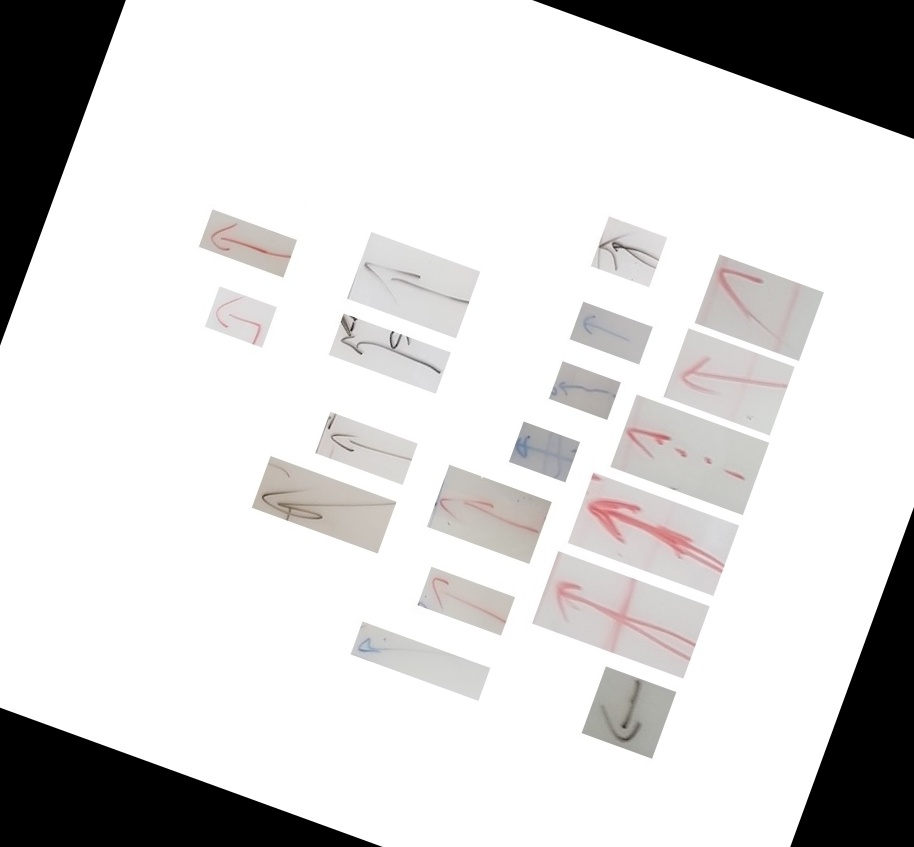arrow: (466, 612, 615, 729), (506, 530, 618, 631), (487, 723, 611, 809), (183, 506, 290, 601), (283, 295, 382, 385), (544, 459, 642, 546), (359, 521, 453, 607), (601, 391, 691, 475), (260, 369, 354, 442), (631, 313, 705, 404), (346, 619, 428, 690), (250, 466, 324, 538), (132, 265, 203, 326), (499, 353, 561, 413), (281, 674, 345, 731), (523, 271, 576, 338), (437, 473, 489, 533), (480, 416, 533, 471), (136, 341, 180, 394)
